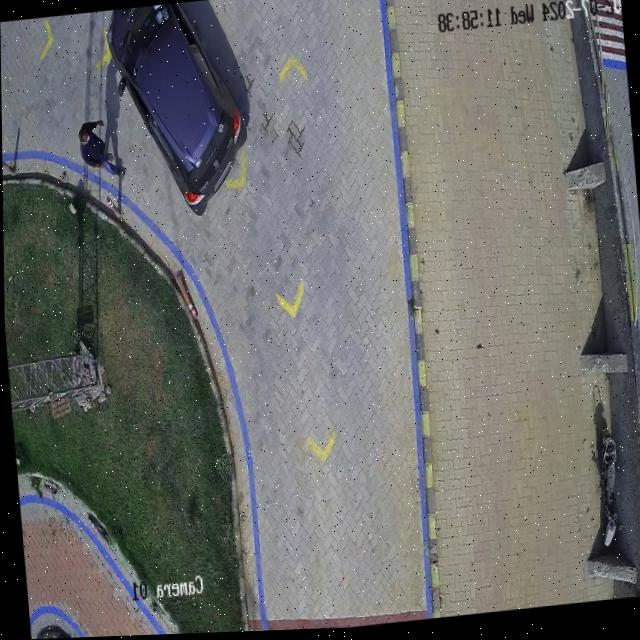car: (108, 4, 246, 216)
